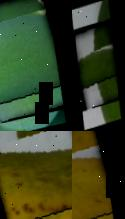PartiallyRipe: (0, 131, 72, 219)
Ripe: (72, 131, 123, 219)
Unripe: (0, 0, 69, 125), (72, 19, 122, 111)
